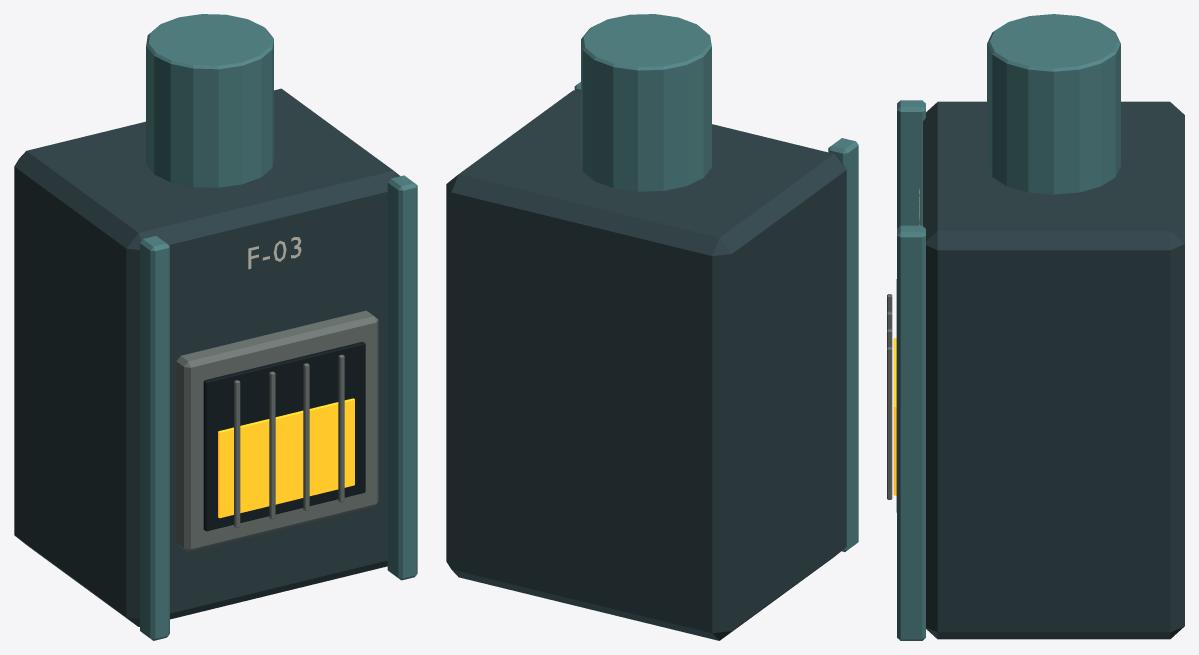
File: foundry-furnace.glb
3 views of the same model, side by side, from view 1: azimuth 30°, elevation 25°; view 2: azimuth 150°, elevation 25°; view 3: azimuth 270°, elevation 25° (orthographic). The views are drawn at different scales.
Visible parts, largest first — view 1: foundry-furnace__foundry-furnace__steel, foundry-furnace__foundry-furnace__petrol, foundry-furnace__foundry-furnace__hardware, foundry-furnace__foundry-furnace__rubber, foundry-furnace__foundry-furnace__molten; view 2: foundry-furnace__foundry-furnace__steel, foundry-furnace__foundry-furnace__petrol; view 3: foundry-furnace__foundry-furnace__steel, foundry-furnace__foundry-furnace__petrol, foundry-furnace__foundry-furnace__hardware, foundry-furnace__foundry-furnace__molten.
Boxes of the visible parts, <box> form: foundry-furnace__foundry-furnace__steel: <box>14,88,400,626</box>; foundry-furnace__foundry-furnace__petrol: <box>140,14,417,640</box>; foundry-furnace__foundry-furnace__hardware: <box>176,310,378,551</box>; foundry-furnace__foundry-furnace__rubber: <box>203,341,365,531</box>; foundry-furnace__foundry-furnace__molten: <box>218,398,354,518</box>; foundry-furnace__foundry-furnace__steel: <box>446,90,846,640</box>; foundry-furnace__foundry-furnace__petrol: <box>574,14,858,551</box>; foundry-furnace__foundry-furnace__steel: <box>923,101,1184,639</box>; foundry-furnace__foundry-furnace__petrol: <box>897,14,1120,640</box>; foundry-furnace__foundry-furnace__hardware: <box>887,294,892,499</box>; foundry-furnace__foundry-furnace__molten: <box>893,338,896,495</box>.
Bounding box in the file's own units: 2.3 × 4.05 × 2.05.
